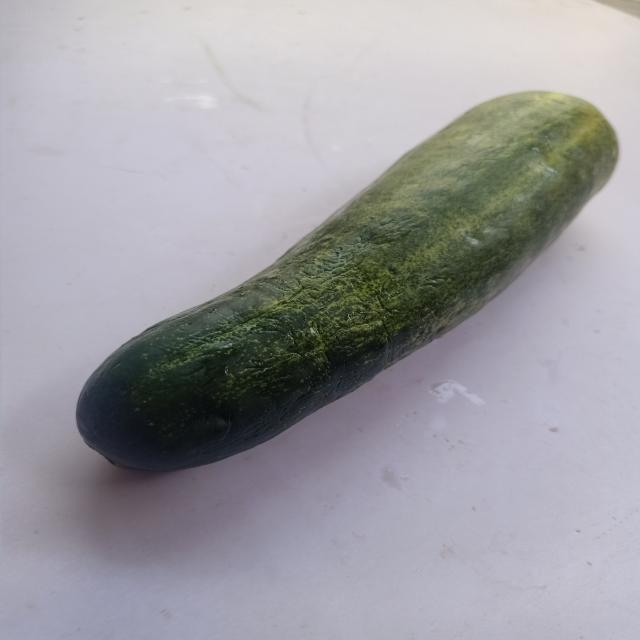Cucumber: (32, 53, 639, 527)
